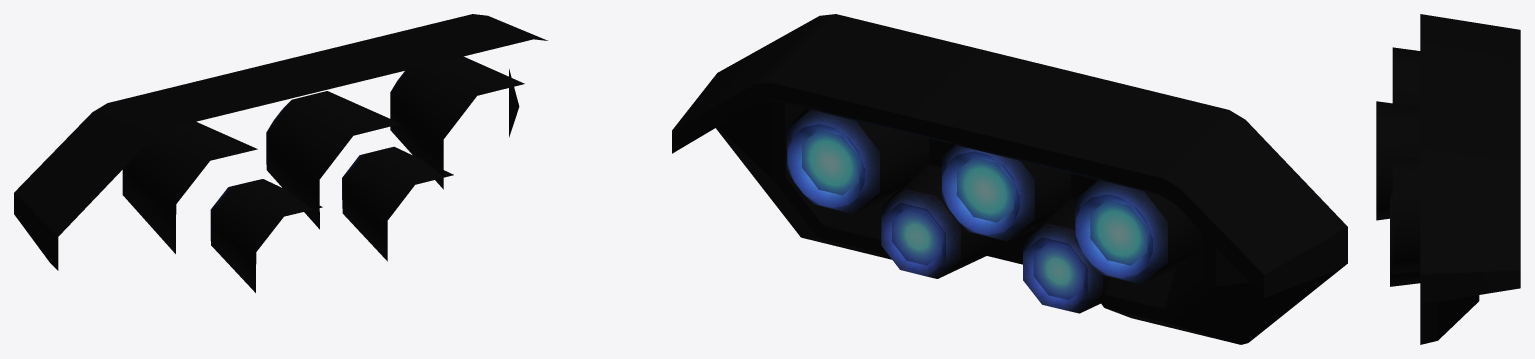
The model's file is engine_hgn_explorer_02_ion_03_t1.glb.
3 renders of one model, left to right at view 1: azimuth 30°, elevation 25°; view 2: azimuth 150°, elevation 25°; view 3: azimuth 270°, elevation 25°, orthographic. The views are drawn at different scales.
Visible parts, largest first — view 1: explorer_02_engine_l_LOD0; view 2: explorer_02_engine_l_LOD0; view 3: explorer_02_engine_l_LOD0.
Part boxes in pixels (left/top/right/bottom): explorer_02_engine_l_LOD0: left=14, top=14, right=547, bottom=292; explorer_02_engine_l_LOD0: left=672, top=14, right=1347, bottom=344; explorer_02_engine_l_LOD0: left=1376, top=14, right=1520, bottom=344.
Size of the model in its own units: 2.51 by 0.8698 by 0.6504.
Materials: 1 (1 with a texture image).
